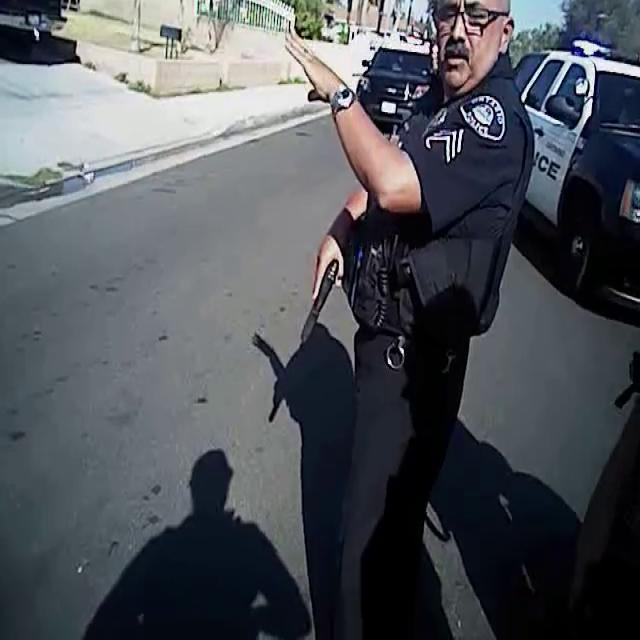gun: (293, 243, 345, 356)
